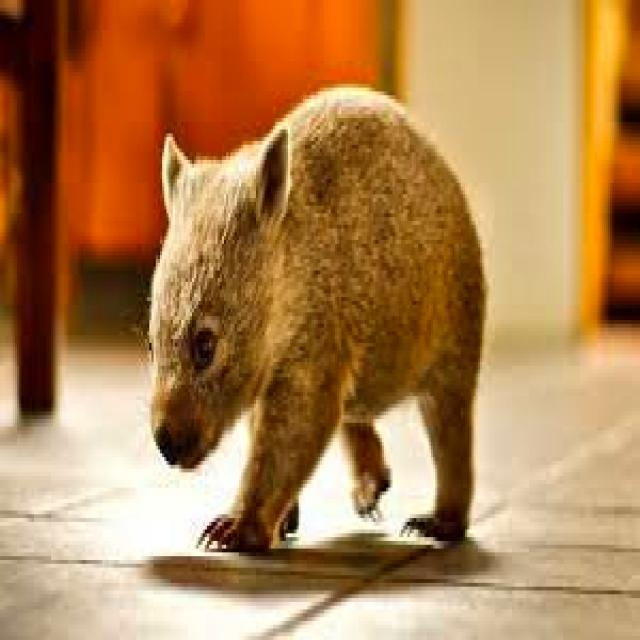wombats: (149, 84, 484, 549)
